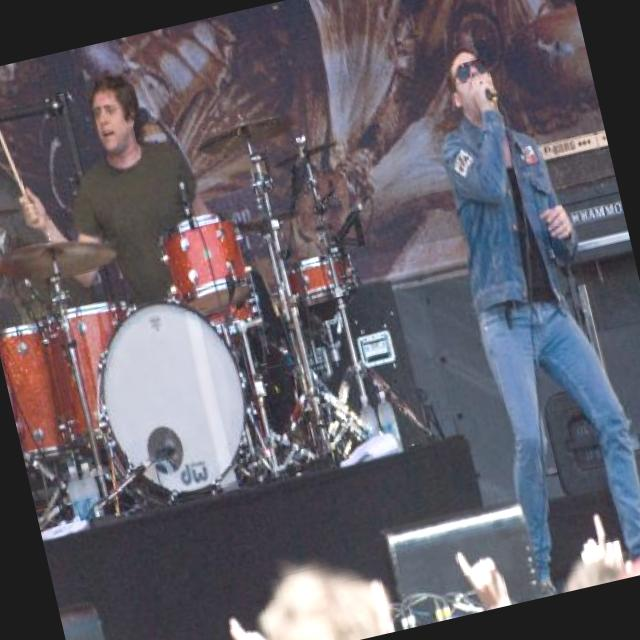Person: (409, 34, 640, 599), (25, 50, 215, 331)
